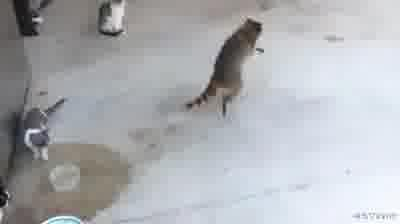raccoon: (182, 15, 266, 121)
